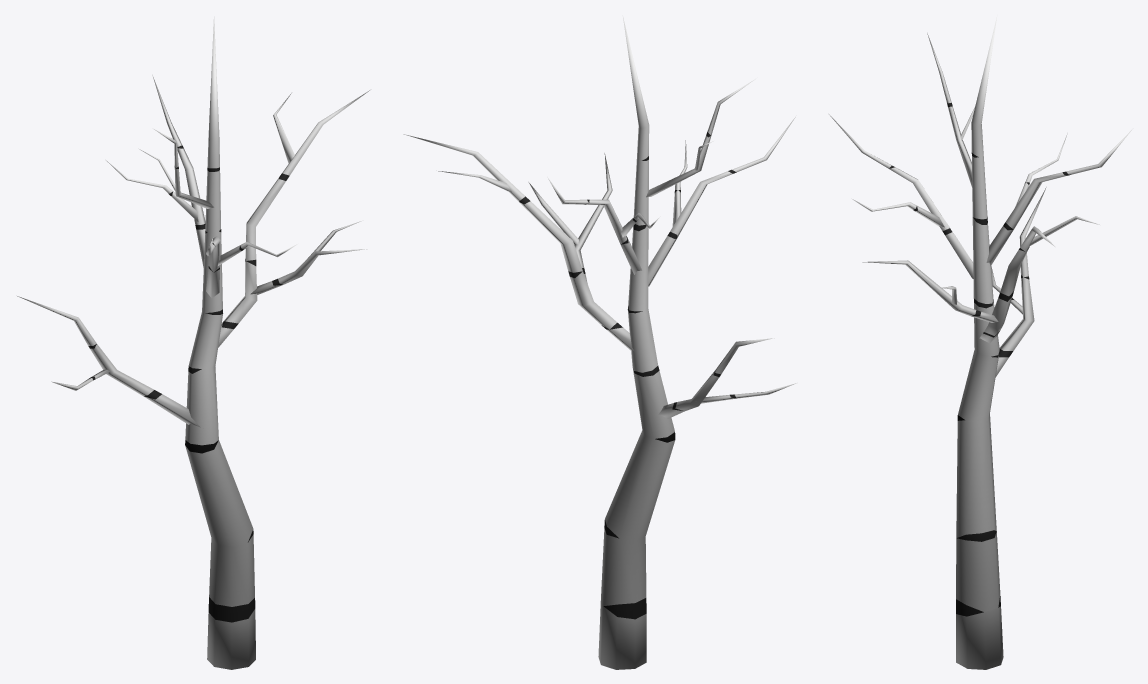
File: birch6.glb
3 views of the same model, side by side, from view 1: azimuth 30°, elevation 25°; view 2: azimuth 150°, elevation 25°; view 3: azimuth 270°, elevation 25° (orthographic). The views are drawn at different scales.
Parts seen in each view (by area): view 1: birch6; view 2: birch6; view 3: birch6.
Part boxes in pixels (x1,y1,x2,y2): birch6: (17,16,369,669); birch6: (403,15,796,669); birch6: (829,15,1133,669).
Bounding box in the file's own units: 3.89 × 6.57 × 2.85.
Materials: 1 (1 with a texture image).
